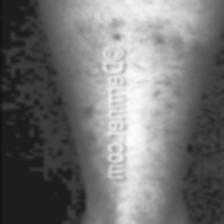Toxin: (108, 30, 168, 48)
